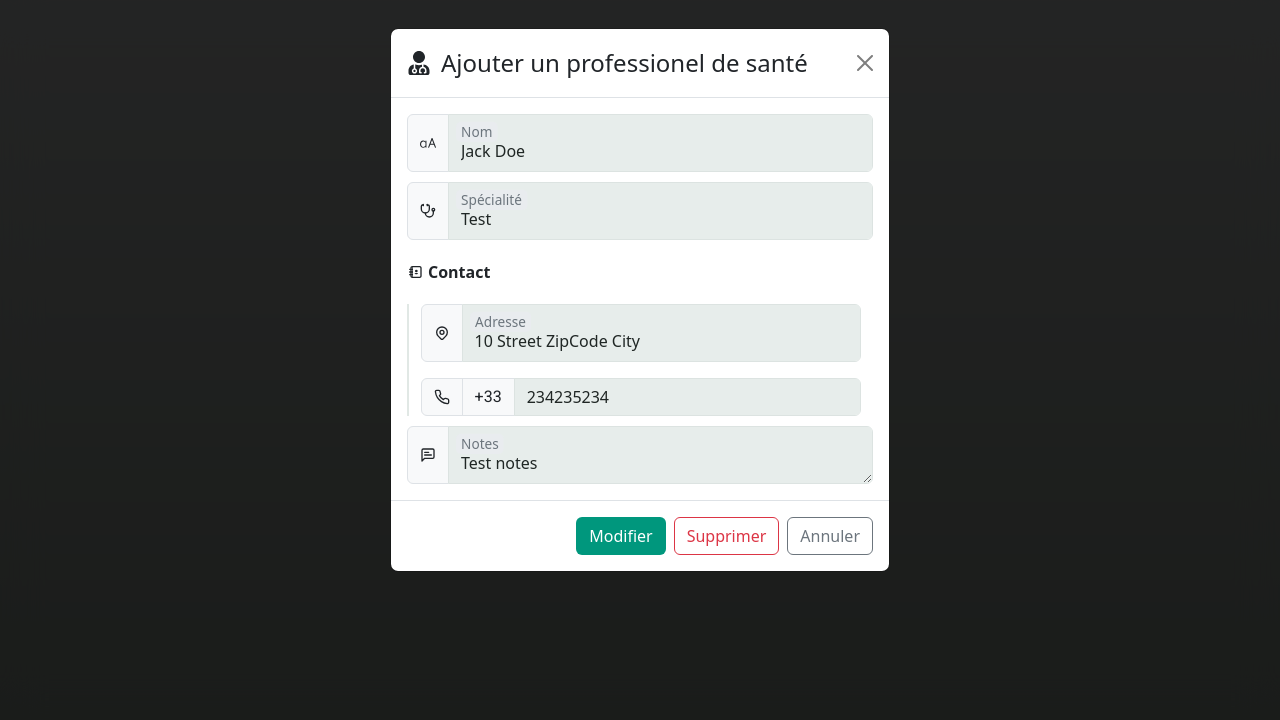
CreateSpecialist › Should enable inputs when user click on edit button
Click the button with test id "editModeButton" at (621, 536), box x1=576 y1=517 x2=666 y2=555
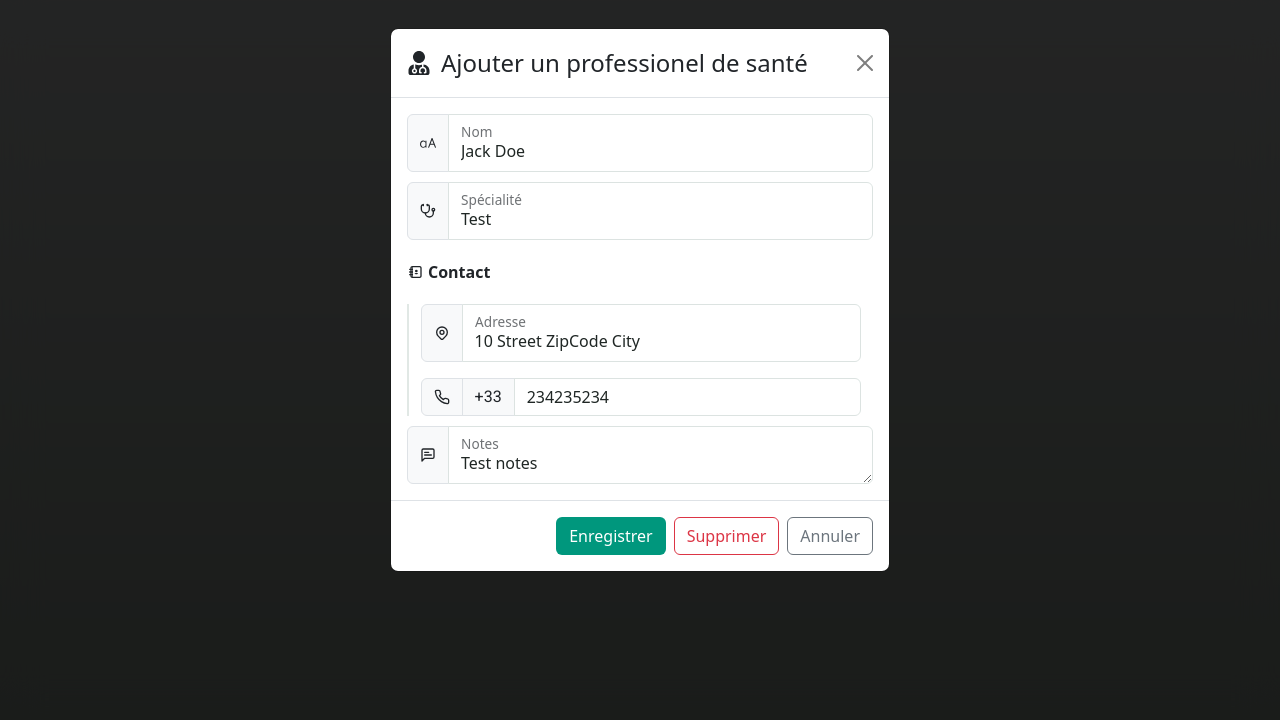
expect the field with placeholder "Nom" is enabled: met, box x1=448 y1=114 x2=873 y2=172
expect the button with test id "submitButton" reads "Enregistrer": met, box x1=556 y1=517 x2=666 y2=555
